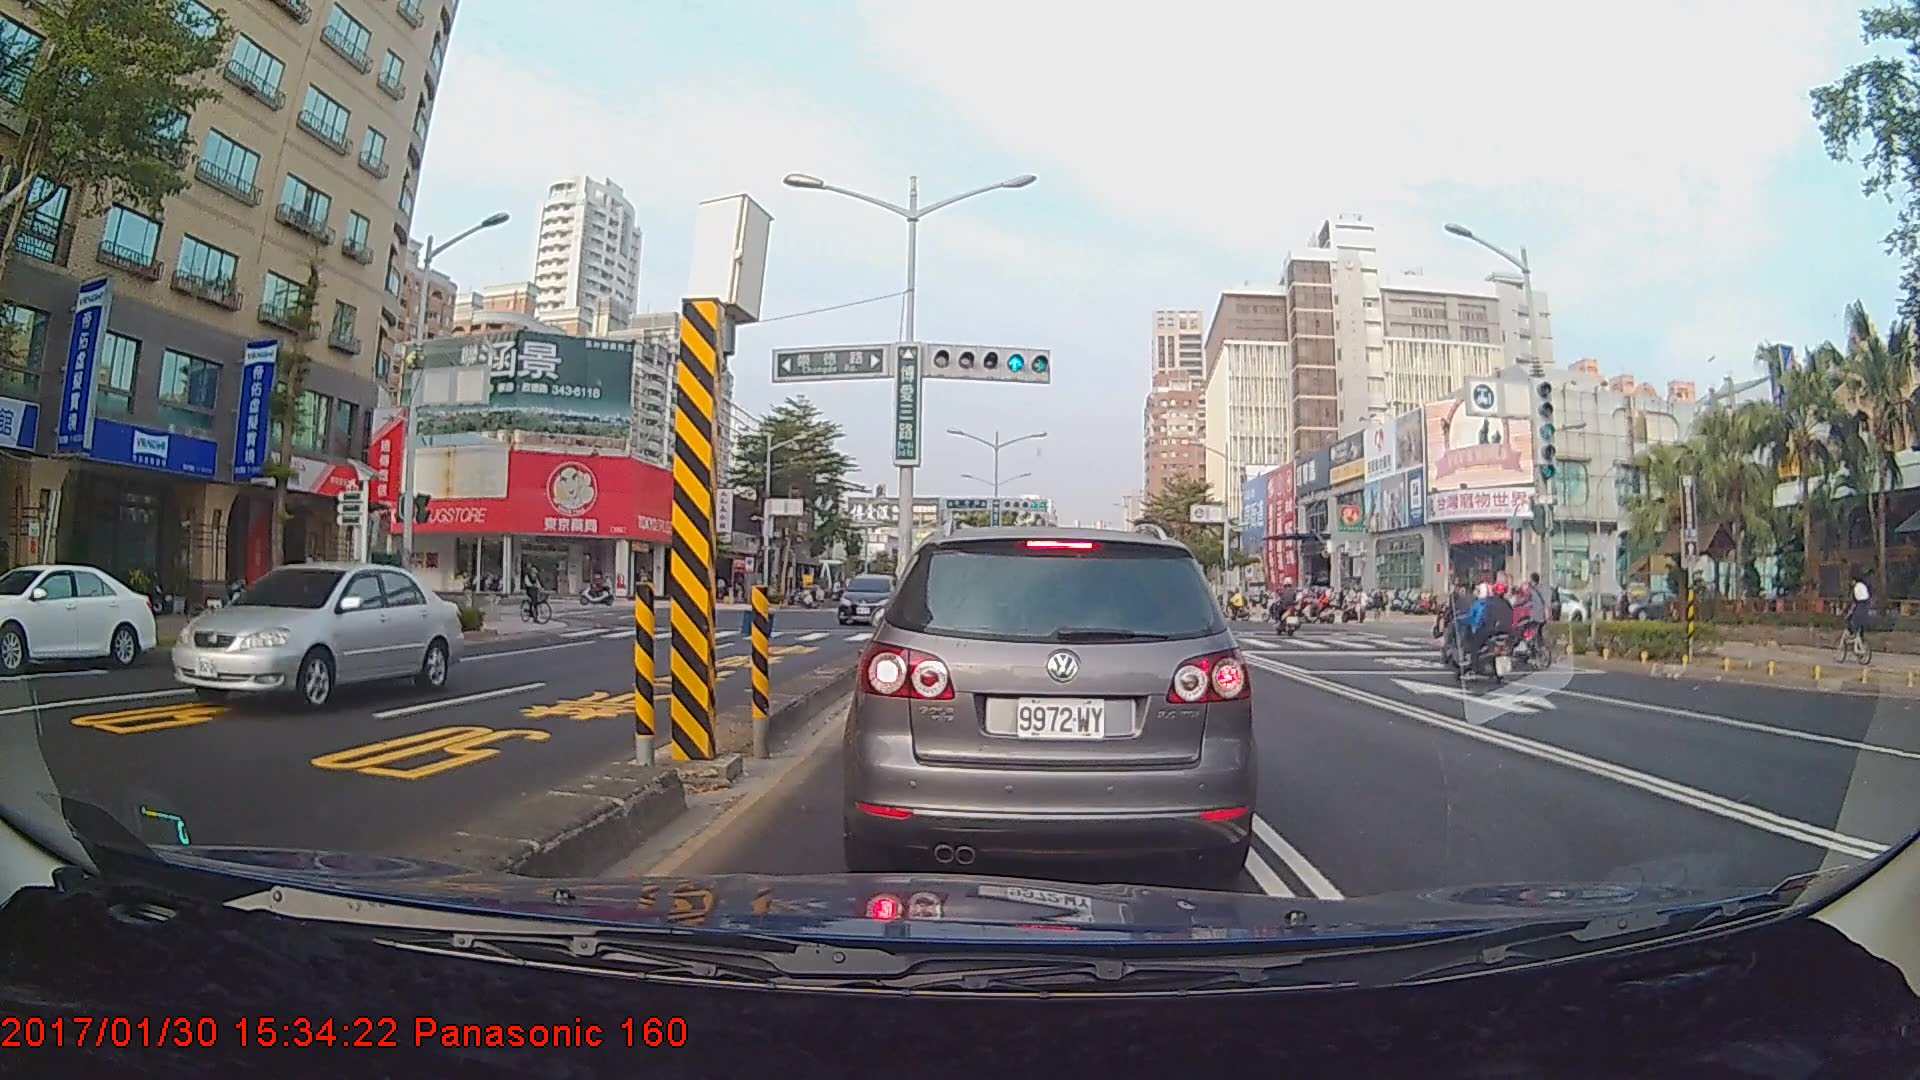pedestrian: (1614, 581, 1634, 640)
rider: (1460, 580, 1520, 684), (1435, 580, 1495, 668), (1829, 576, 1884, 667), (518, 559, 561, 629), (1265, 576, 1311, 639), (1436, 582, 1473, 646), (577, 573, 614, 609)
vehicle: (853, 519, 1252, 879), (169, 560, 460, 712), (0, 561, 156, 671), (835, 573, 909, 626)
